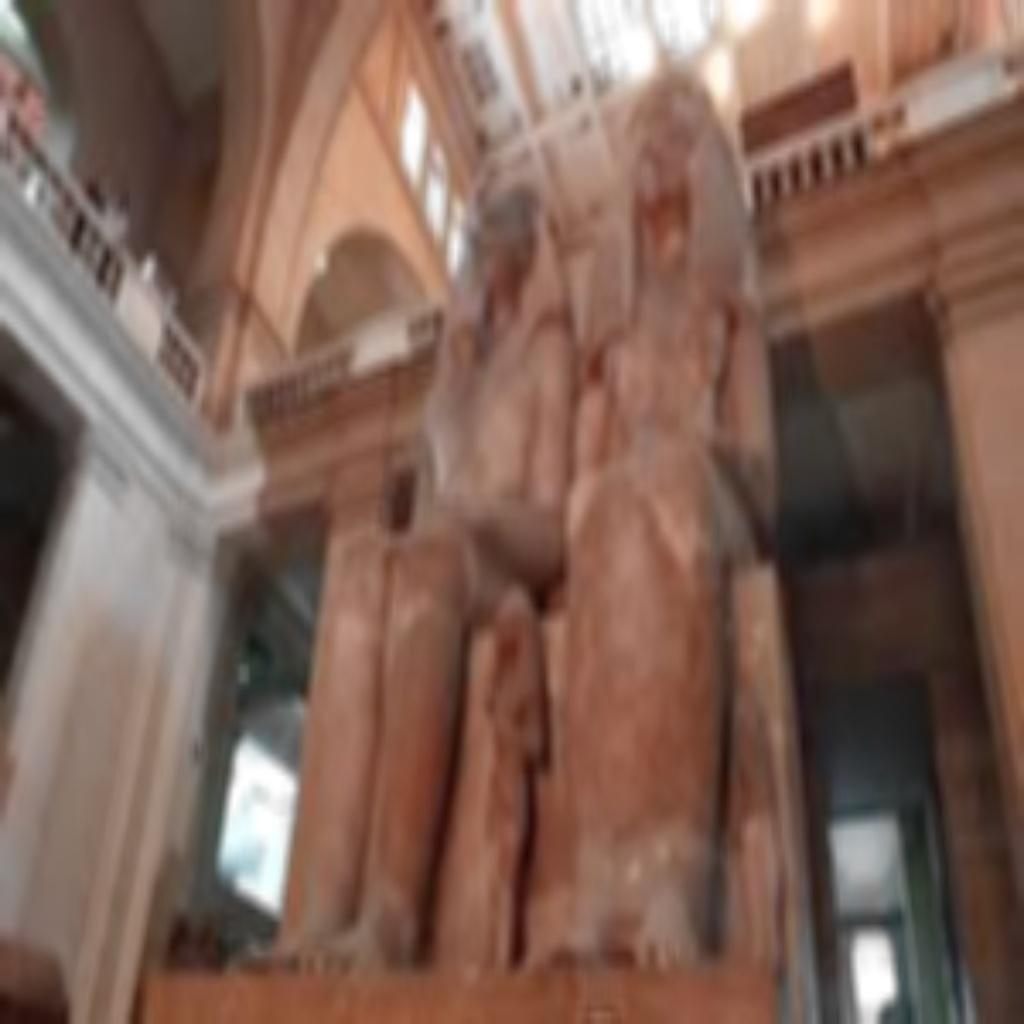Amenhotep III and Tiye: (221, 58, 774, 994)
